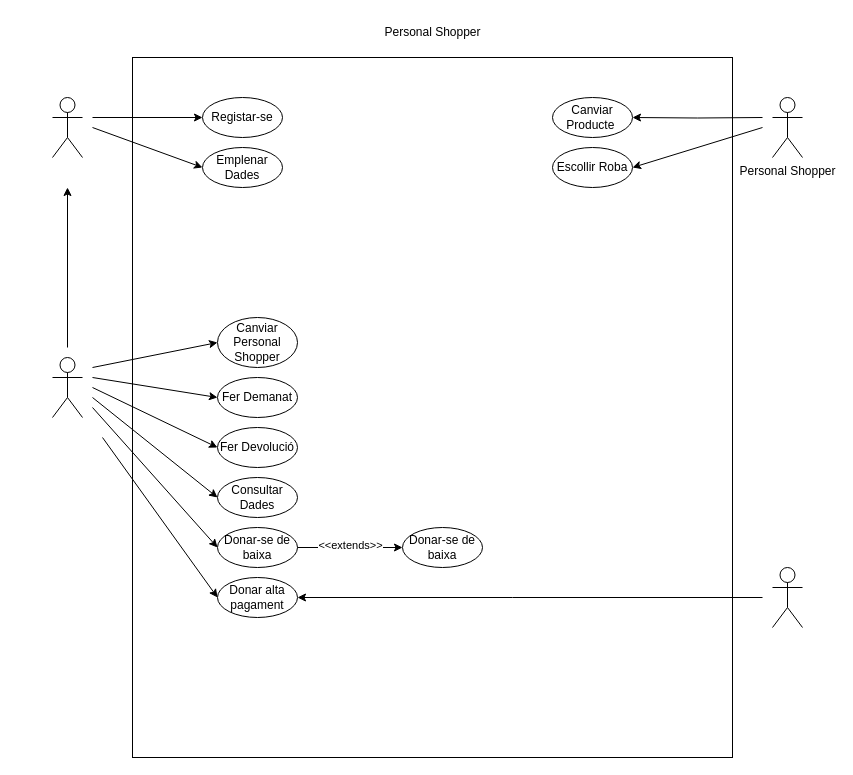
Some shapes in this 853 by 775 pixel diagram are drawn without their labels. The shapes that lost their labels are listed below. From the top down, each one's centre as x and y in pixels, then its label:
the point at 67,127: Client No Registrat
the point at 67,387: Client Registrat
the point at 787,597: Sistema de pagament
